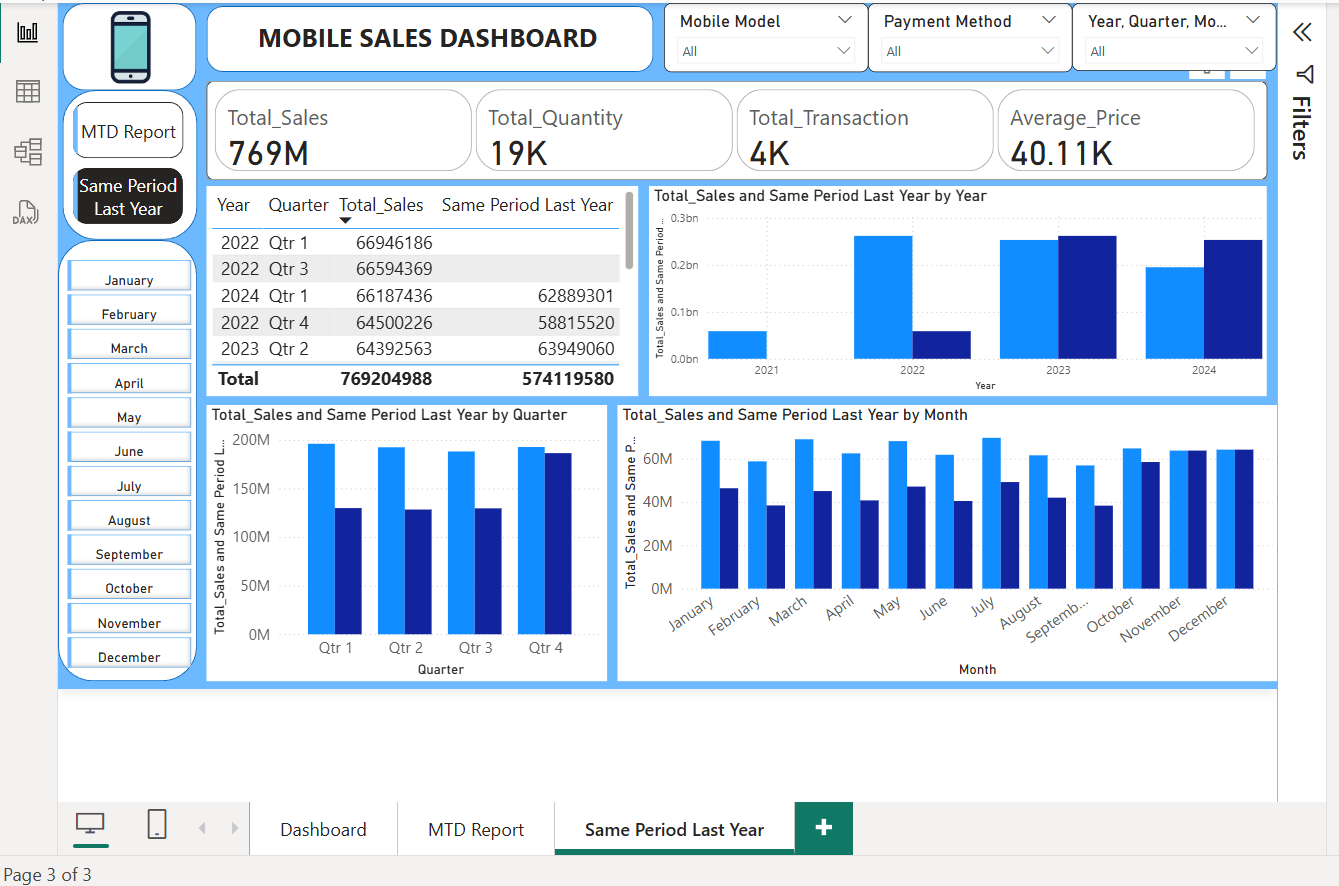

This screenshot's page, from the dashboard's own definition file:
{"tool":"powerbi","page":{"name":"Same Period Last Year","canvas":[1280,720],"ordinal":2},"visuals":[{"type":"shape","box":[5.4,0,140.6,91.9],"z":0},{"type":"shape","box":[4.7,91.4,141.8,157.5],"z":1000},{"type":"cardVisual","fields":{"Data":["Mobile_Sales.Total_Sales","Mobile_Sales.Total_Quantity","Mobile_Sales.Total_Transaction","Mobile_Sales.Average_Price"]},"box":[155.4,82.5,1113.8,104.1],"z":2000},{"type":"slicer","fields":{"Values":["Mobile_Sales.Mobile Model"]},"box":[636.2,0,214.5,72.5],"z":3000},{"type":"slicer","fields":{"Values":["Mobile_Sales.Payment Method"]},"box":[850.7,0,214.5,72.5],"z":4000},{"type":"slicer","fields":{"Values":["Custom_Calendar.Date.Variation.Date Hierarchy.Year","Custom_Calendar.Date.Variation.Date Hierarchy.Quarter","Custom_Calendar.Date.Variation.Date Hierarchy.Month","Custom_Calendar.Date.Variation.Date Hierarchy.Day"]},"box":[1065.2,0,214.5,71],"z":5000},{"type":"image","box":[32.4,2.7,86.5,86.5],"z":6000},{"type":"shape","box":[0,248.7,146,463.6],"z":7000},{"type":"advancedSlicerVisual","fields":{"Values":["Custom_Calendar.Date.Variation.Date Hierarchy.Month"]},"box":[5.4,264.9,140.6,447.4],"z":8000},{"type":"tableEx","fields":{"Values":["Custom_Calendar.Date.Variation.Date Hierarchy.Year","Custom_Calendar.Date.Variation.Date Hierarchy.Quarter","Mobile_Sales.Total_Sales","Mobile_Sales.Same Period Last Year"]},"box":[155.9,192.2,453.6,220.5],"z":9000},{"type":"clusteredColumnChart","fields":{"Category":["Custom_Calendar.Date.Variation.Date Hierarchy.Year","Custom_Calendar.Date.Variation.Date Hierarchy.Quarter","Custom_Calendar.Date.Variation.Date Hierarchy.Month","Custom_Calendar.Date.Variation.Date Hierarchy.Day"],"Y":["Mobile_Sales.Total_Sales","Mobile_Sales.Same Period Last Year"]},"box":[620.6,192.2,648.9,220.5],"z":10000},{"type":"clusteredColumnChart","fields":{"Category":["Custom_Calendar.Date.Variation.Date Hierarchy.Year","Custom_Calendar.Date.Variation.Date Hierarchy.Quarter","Custom_Calendar.Date.Variation.Date Hierarchy.Month","Custom_Calendar.Date.Variation.Date Hierarchy.Day"],"Y":["Mobile_Sales.Total_Sales","Mobile_Sales.Same Period Last Year"]},"box":[587.5,422.1,693,289.8],"z":11000},{"type":"clusteredColumnChart","fields":{"Category":["Custom_Calendar.Date.Variation.Date Hierarchy.Year","Custom_Calendar.Date.Variation.Date Hierarchy.Quarter","Custom_Calendar.Date.Variation.Date Hierarchy.Month","Custom_Calendar.Date.Variation.Date Hierarchy.Day"],"Y":["Mobile_Sales.Total_Sales","Mobile_Sales.Same Period Last Year"]},"box":[155.9,422.1,420.5,289.8],"z":12000},{"type":"pageNavigator","box":[15.8,104,116.6,129.2],"z":13000},{"type":"shape","box":[155.9,3.2,469.4,69.3],"z":14000},{"type":"textbox","box":[167,12.6,442.6,50.4],"z":15000}]}

Visuals, with their boxes on the page's 1280x720 design canvas (x1, y1, x2, y2). These are canvas units, not pixel positions in the 1339x886 screenshot, which may show the page scaled, cropped or inside an application window:
shape: <box>5,0,146,92</box>
shape: <box>5,91,146,249</box>
cardVisual - Mobile_Sales.Total_Sales x Mobile_Sales.Total_Quantity: <box>155,82,1269,187</box>
slicer - Mobile_Sales.Mobile Model: <box>636,0,851,72</box>
slicer - Mobile_Sales.Payment Method: <box>851,0,1065,72</box>
slicer - Custom_Calendar.Date.Variation.Date Hierarchy.Year x Custom_Calendar.Date.Variation.Date Hierarchy.Quarter: <box>1065,0,1280,71</box>
image: <box>32,3,119,89</box>
shape: <box>0,249,146,712</box>
advancedSlicerVisual - Custom_Calendar.Date.Variation.Date Hierarchy.Month: <box>5,265,146,712</box>
tableEx - Custom_Calendar.Date.Variation.Date Hierarchy.Year x Custom_Calendar.Date.Variation.Date Hierarchy.Quarter: <box>156,192,610,413</box>
clusteredColumnChart - Custom_Calendar.Date.Variation.Date Hierarchy.Year x Custom_Calendar.Date.Variation.Date Hierarchy.Quarter: <box>621,192,1270,413</box>
clusteredColumnChart - Custom_Calendar.Date.Variation.Date Hierarchy.Year x Custom_Calendar.Date.Variation.Date Hierarchy.Quarter: <box>588,422,1280,712</box>
clusteredColumnChart - Custom_Calendar.Date.Variation.Date Hierarchy.Year x Custom_Calendar.Date.Variation.Date Hierarchy.Quarter: <box>156,422,576,712</box>
pageNavigator: <box>16,104,132,233</box>
shape: <box>156,3,625,72</box>
textbox: <box>167,13,610,63</box>
